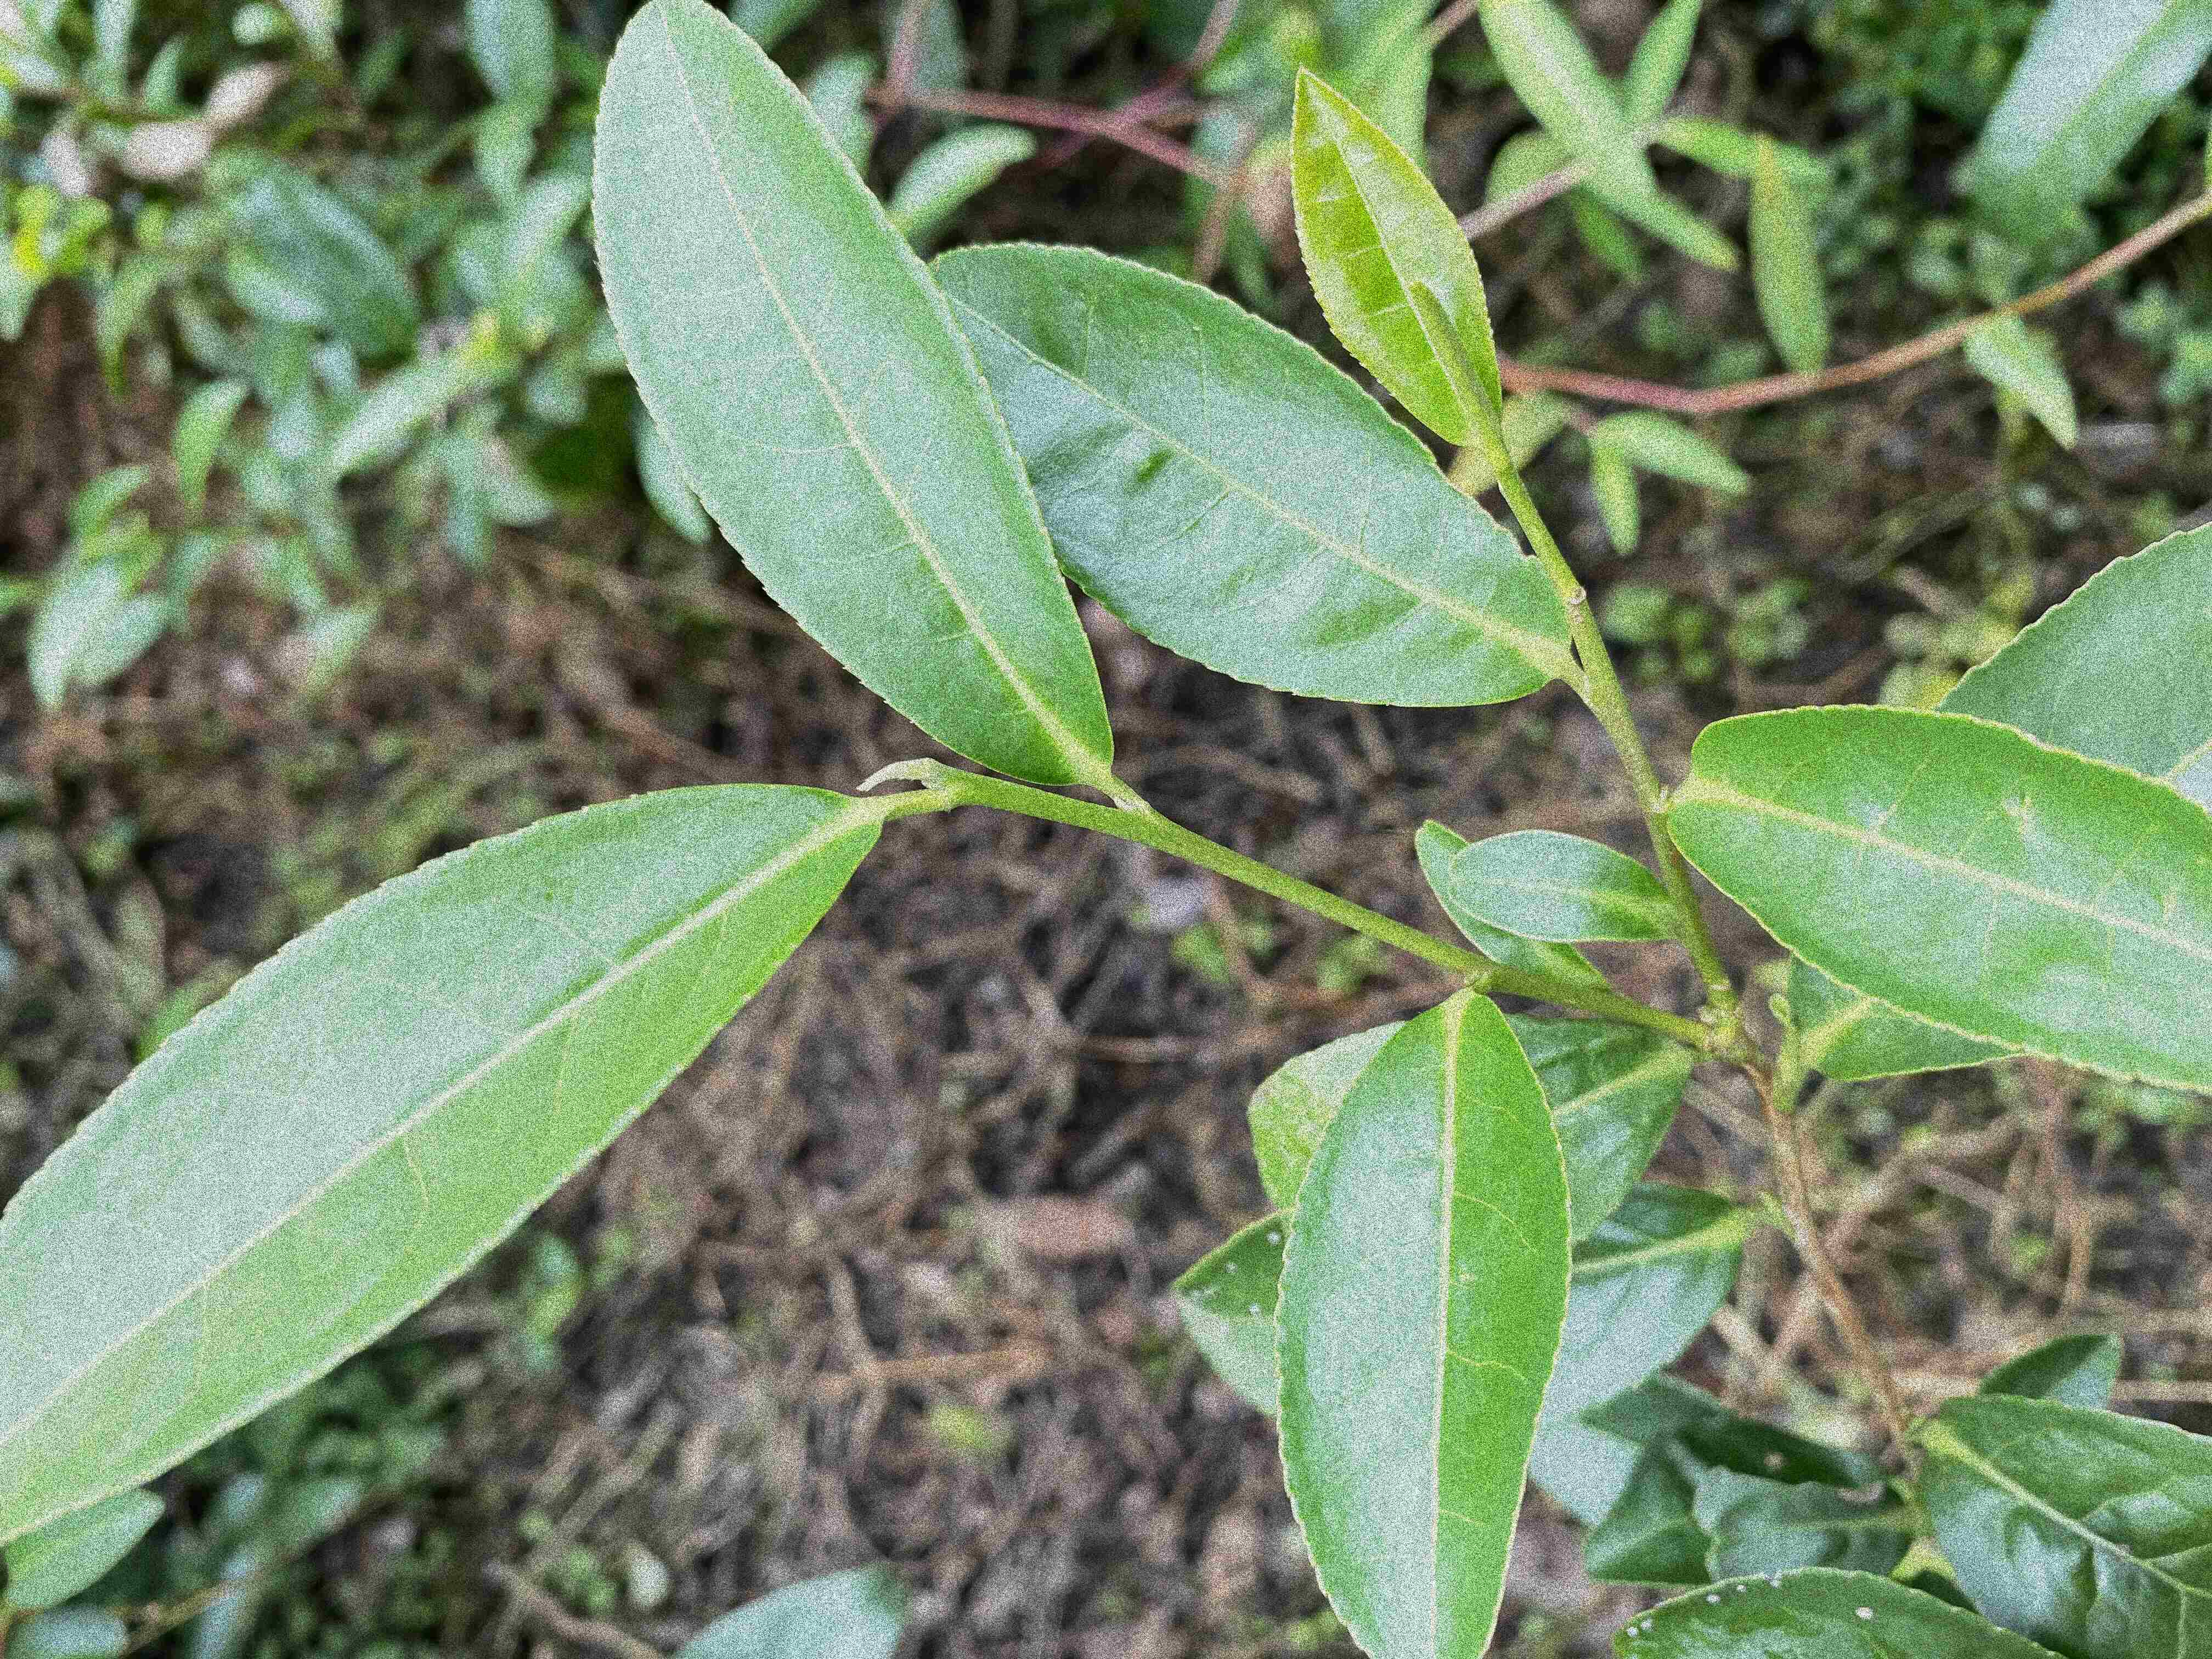healthy: (2, 784, 880, 1542), (590, 0, 1116, 784), (921, 247, 1575, 711), (1665, 699, 2210, 1096), (1271, 988, 1575, 1656), (1284, 68, 1503, 450), (1447, 828, 1679, 945)
